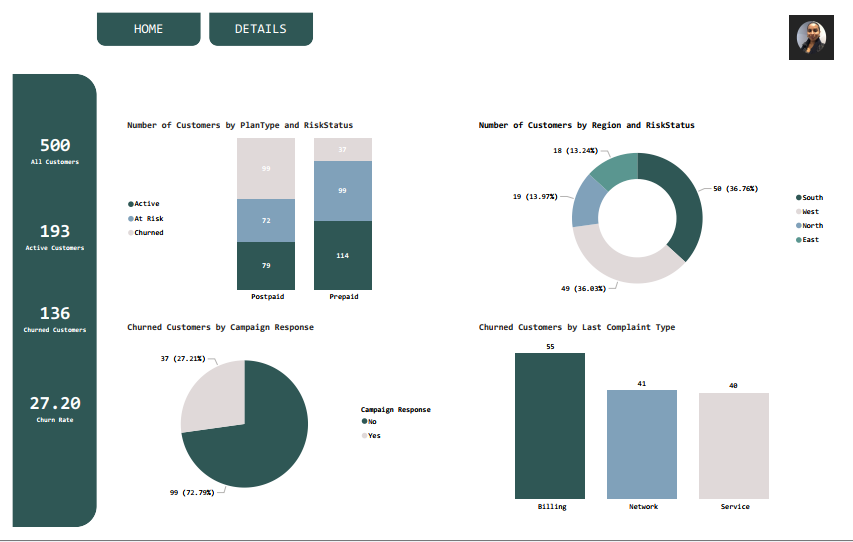

This screenshot's page, from the dashboard's own definition file:
{"tool":"powerbi","page":{"name":"Home","canvas":[1480,920],"ordinal":0},"visuals":[{"type":"columnChart","fields":{"Category":["vw_AllCustomers.PlanType"],"Y":["CountNonNull(vw_AllCustomers.CustomerID)"],"Series":["vw_AllCustomers.RiskStatus"]},"box":[200.7,192.4,575.2,333.1],"z":0},{"type":"donutChart","fields":{"Category":["vw_AllCustomers.Region"],"Y":["CountNonNull(vw_AllCustomers.CustomerID)"],"Series":["vw_AllCustomers.RiskStatus"]},"box":[829.7,192.4,635.2,333.1],"z":1000},{"type":"columnChart","fields":{"Y":["Sum(vw_ChurnByComplaint.ChurnedCustomers)"],"Category":["vw_ChurnByComplaint.LastComplaintType"]},"box":[829.7,554.5,600,345.5],"z":2000},{"type":"pieChart","fields":{"Category":["vw_EngagementEffectiveness.CampaignResponse"],"Y":["Sum(vw_EngagementEffectiveness.ChurnedCustomers)"]},"box":[200.7,554.5,575.2,345.5],"z":3000},{"type":"image","box":[1380,0,99.3,89],"z":4000},{"type":"shape","box":[0,109.7,151,811.1],"z":5000},{"type":"card","fields":{"Values":["Count(vw_AllCustomers.CustomerID)"]},"box":[8.3,192.4,136.6,101.4],"z":6000},{"type":"card","fields":{"Values":["Count(vw_ChurnedCustomers2.CustomerID)"]},"box":[8.3,492.4,136.6,101.4],"z":7000},{"type":"card","fields":{"Values":["Count(vw_ActiveCustomers.CustomerID)"]},"box":[8.3,345.5,136.6,101.4],"z":8000},{"type":"card","fields":{"Values":["Sum(Query1.ChurnRatePercent)"]},"box":[8.3,653.8,136.6,101.4],"z":9000},{"type":"shape","box":[151,0,186.2,60],"z":10000},{"type":"shape","box":[351.7,0,186.2,60],"z":11000}]}

Visuals, with their boxes in screenshot pixels (x1, y1, x2, y2), scaled from the page's 1480x920 canvas onto the 853x542 screenshot:
columnChart - vw_AllCustomers.PlanType x CountNonNull(vw_AllCustomers.CustomerID): Rect(116, 113, 447, 310)
donutChart - vw_AllCustomers.Region x CountNonNull(vw_AllCustomers.CustomerID): Rect(478, 113, 844, 310)
columnChart - Sum(vw_ChurnByComplaint.ChurnedCustomers) x vw_ChurnByComplaint.LastComplaintType: Rect(478, 327, 824, 530)
pieChart - vw_EngagementEffectiveness.CampaignResponse x Sum(vw_EngagementEffectiveness.ChurnedCustomers): Rect(116, 327, 447, 530)
image: Rect(795, 0, 852, 52)
shape: Rect(0, 65, 87, 541)
card - Count(vw_AllCustomers.CustomerID): Rect(5, 113, 84, 173)
card - Count(vw_ChurnedCustomers2.CustomerID): Rect(5, 290, 84, 350)
card - Count(vw_ActiveCustomers.CustomerID): Rect(5, 204, 84, 263)
card - Sum(Query1.ChurnRatePercent): Rect(5, 385, 84, 445)
shape: Rect(87, 0, 194, 35)
shape: Rect(203, 0, 310, 35)
